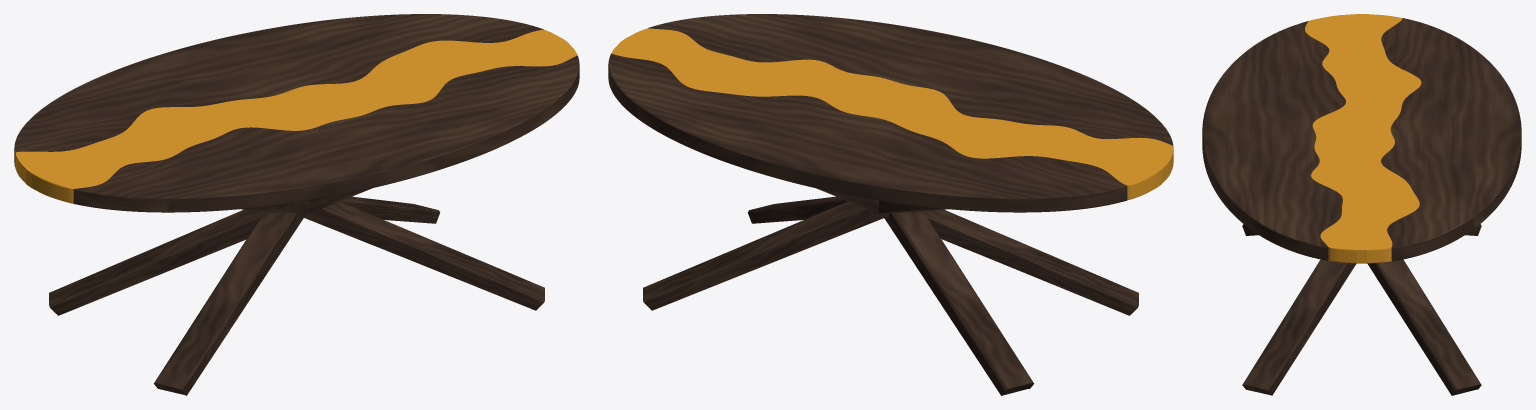
File: ellipse-walnut-epoxy-amber.glb
3 renders of one model, left to right at view 1: azimuth 30°, elevation 25°; view 2: azimuth 150°, elevation 25°; view 3: azimuth 270°, elevation 25°, orthographic. The views are drawn at different scales.
Parts seen in each view (by area): view 1: Wood_Ellipse_EpoxyFar, Wood_Ellipse_EpoxyNear, Base_Ellipse, Resin_Ellipse; view 2: Wood_Ellipse_EpoxyNear, Wood_Ellipse_EpoxyFar, Base_Ellipse, Resin_Ellipse; view 3: Wood_Ellipse_EpoxyNear, Wood_Ellipse_EpoxyFar, Resin_Ellipse, Base_Ellipse.
Boxes of the visible parts, x1,y1,x2,y2 form: Wood_Ellipse_EpoxyFar: (73,55,579,212); Wood_Ellipse_EpoxyNear: (14,14,543,166); Base_Ellipse: (49,188,544,395); Resin_Ellipse: (15,29,577,203); Wood_Ellipse_EpoxyNear: (608,53,1127,212); Wood_Ellipse_EpoxyFar: (647,14,1173,145); Base_Ellipse: (643,188,1138,395); Resin_Ellipse: (611,28,1173,200); Wood_Ellipse_EpoxyNear: (1381,18,1521,261); Wood_Ellipse_EpoxyFar: (1202,21,1345,260); Resin_Ellipse: (1305,14,1421,263); Base_Ellipse: (1242,224,1481,395).
Bounding box in the file's own units: 2.13 × 0.762 × 1.22.
3 materials, 2 textured.
